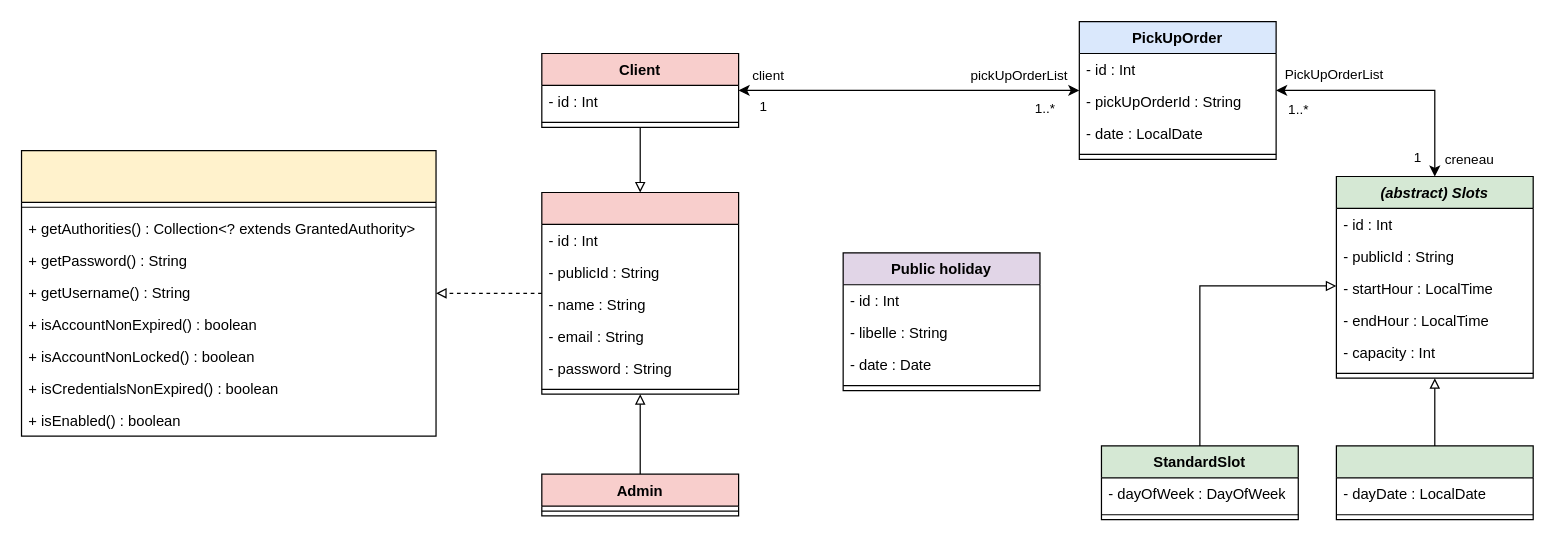
Image size: 1555x541. Some labels were removed from this diagram. The box of each missing label's shape, as (x1, y1, x2, y2) in pixels:
(abstract) User: (541, 191, 739, 394)
ExceptionalSlot: (1335, 445, 1533, 520)
UserDetails (Interface): (20, 149, 436, 436)
